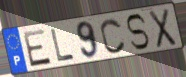9: (74, 20, 100, 61)
C: (99, 17, 127, 55)
E: (21, 27, 53, 69)
L: (49, 27, 76, 62)
S: (125, 13, 151, 52)
X: (148, 7, 178, 50)
